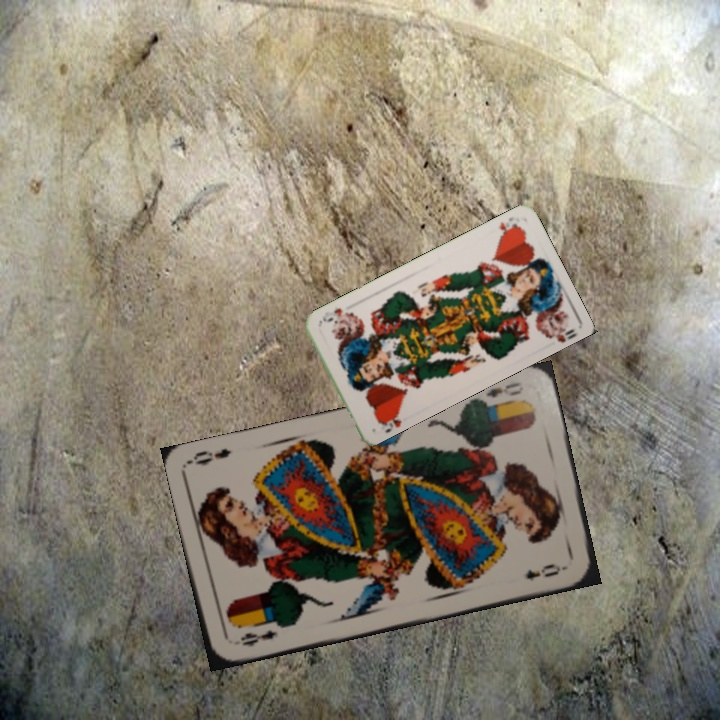EO: (236, 625, 280, 649), (482, 378, 526, 400)
HO: (373, 406, 404, 434), (495, 213, 523, 240)
